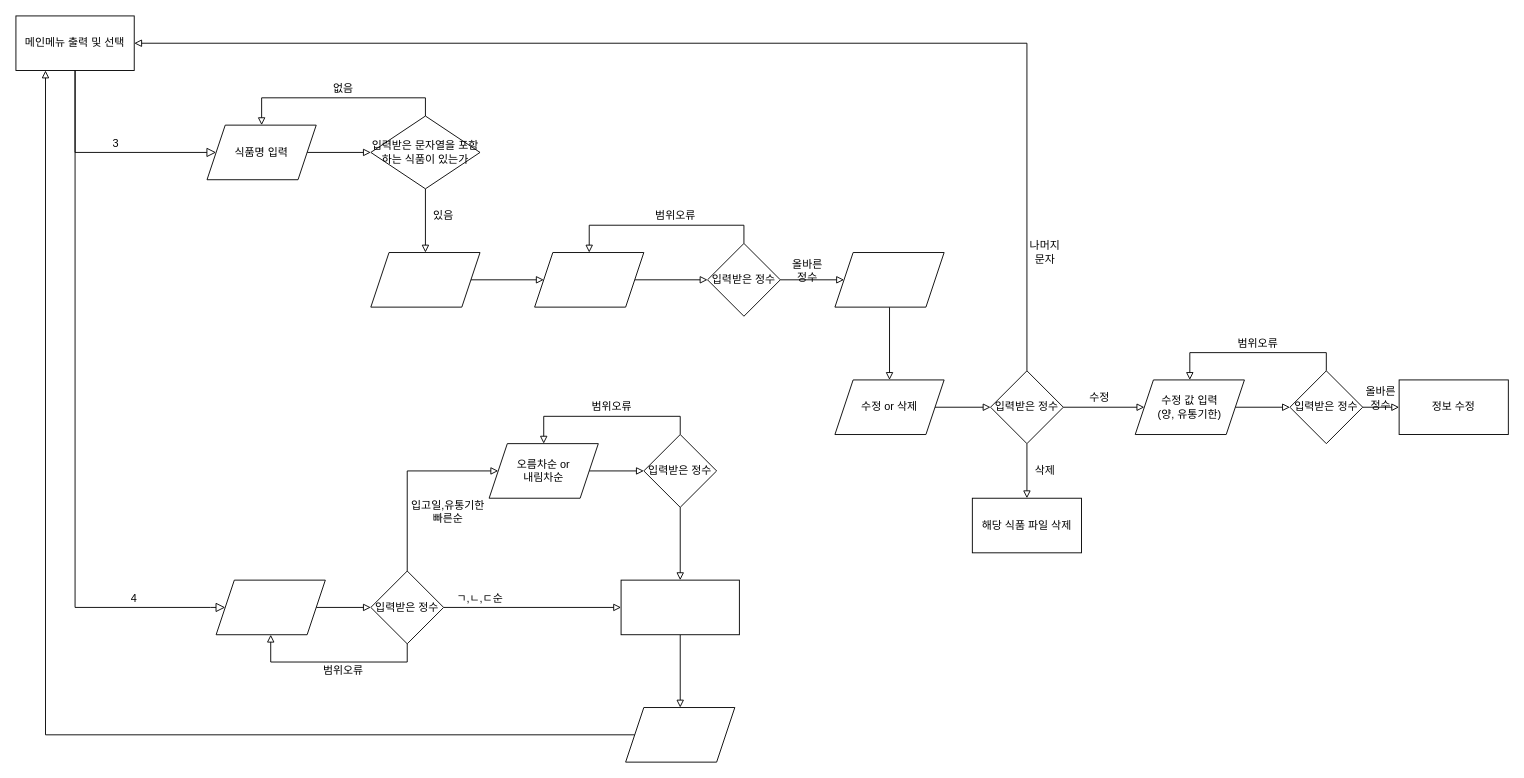
This 1524x778 diagram has some shape labels left out. The centre of each missing label's shape, as x and y in pixels:
기준에 따라 모든 식품 정렬: the point at 679,607
목록 인덱스 번호 입력: the point at 589,279
식품 목록 출력: the point at 680,734
정렬기준(정수) 입력: the point at 270,607
해당 식품 목록 출력: the point at 425,279
해당식품 정보 출력: the point at 889,279
